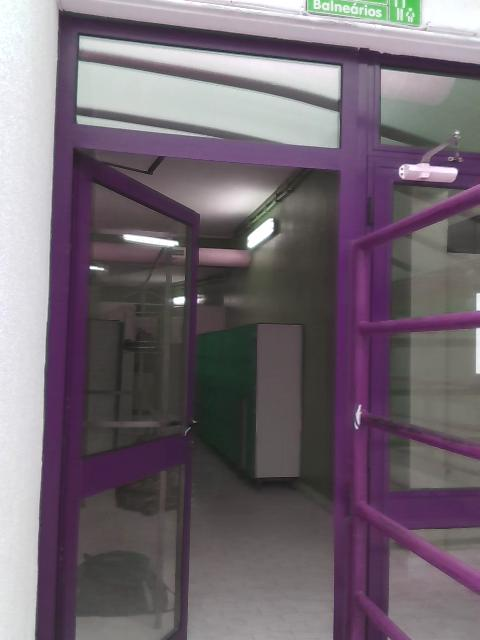open_door: (34, 123, 358, 639)
